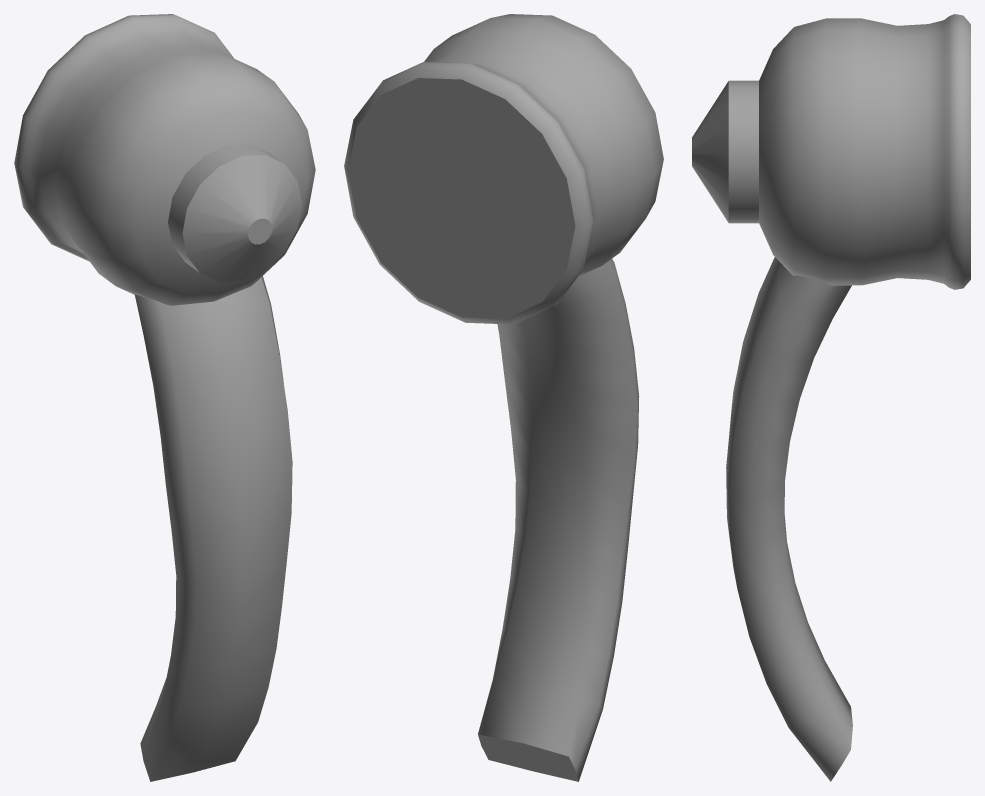
Rendered from FaucetmeshSinkFaucetKnob_30_1.obj.
The picture shows the model from 3 angles, left to right: view 1: azimuth 30°, elevation 25°; view 2: azimuth 150°, elevation 25°; view 3: azimuth 270°, elevation 25°; orthographic projection. The views are drawn at different scales.
Visible parts, largest first — view 1: SinkFaucetKnob_30; view 2: SinkFaucetKnob_30; view 3: SinkFaucetKnob_30.
Part boxes in pixels (x1=…): SinkFaucetKnob_30: x1=14, y1=14, x2=315, y2=781; SinkFaucetKnob_30: x1=344, y1=14, x2=663, y2=781; SinkFaucetKnob_30: x1=692, y1=14, x2=970, y2=781.
Size of the model in its own units: 0.0681 by 0.1997 by 0.0687.
